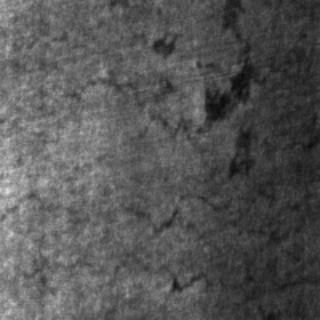crazing: (3, 189, 219, 289), (21, 68, 195, 168)
patches: (198, 53, 262, 177)
